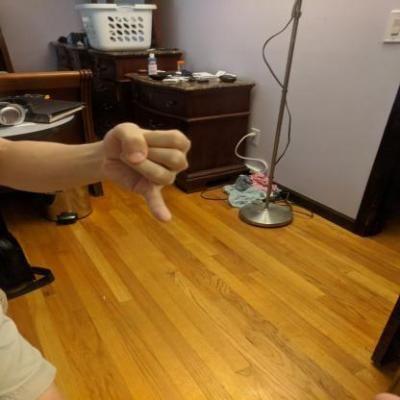hand: (94, 120, 198, 230)
